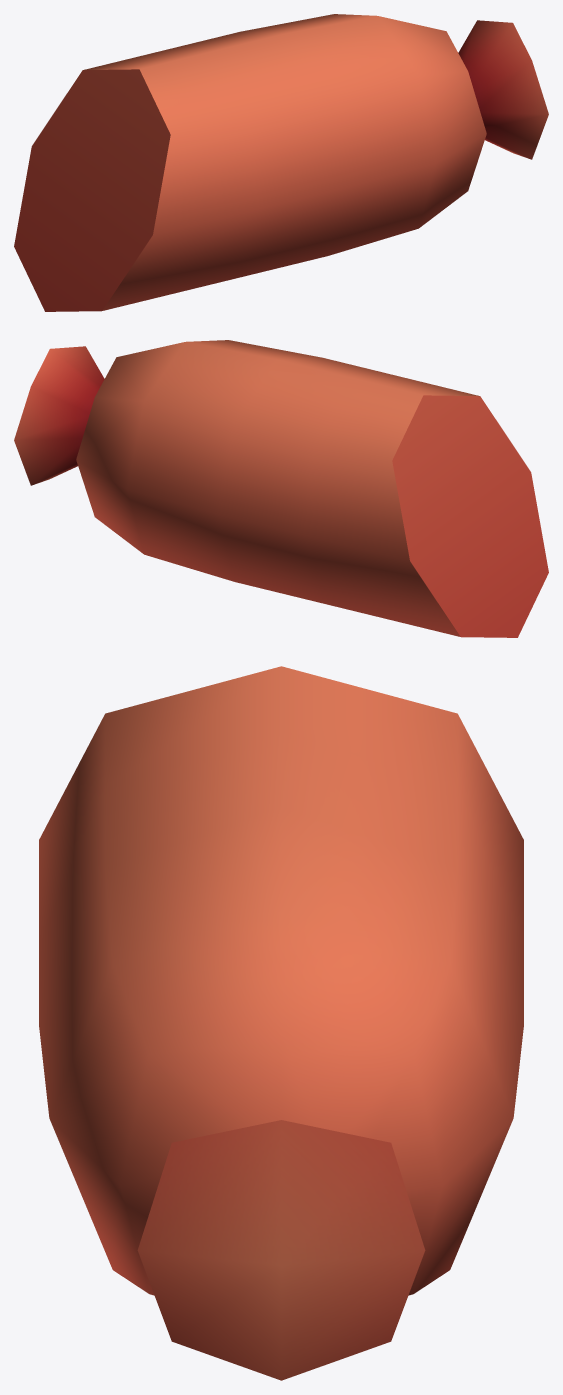
File: Sausage_Slice_01.glb
The picture shows the model from 3 angles, top to bottom: view 1: azimuth 30°, elevation 25°; view 2: azimuth 150°, elevation 25°; view 3: azimuth 270°, elevation 25°; orthographic projection. The views are drawn at different scales.
Visible parts, largest first — view 1: Sausage_Slice_01; view 2: Sausage_Slice_01; view 3: Sausage_Slice_01.
Boxes of the visible parts, x1,y1,x2,y2 form: Sausage_Slice_01: (14,14,548,311); Sausage_Slice_01: (14,340,548,637); Sausage_Slice_01: (39,666,523,1380).
Bounding box in the file's own units: 0.4241 × 0.1842 × 0.1842.
Materials: 1 (1 with a texture image).
